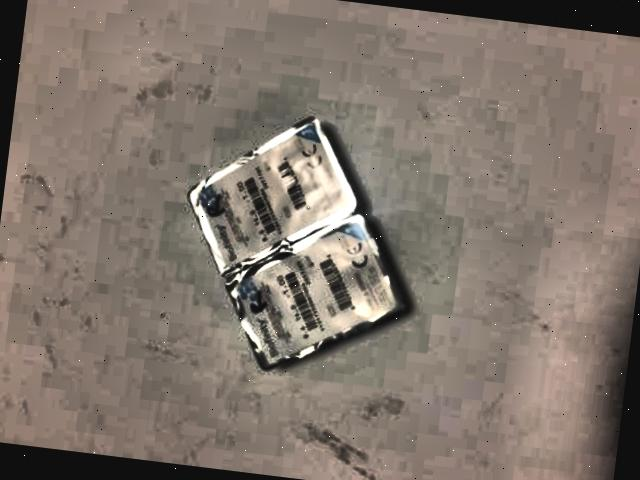Plastic: (141, 96, 444, 400)
